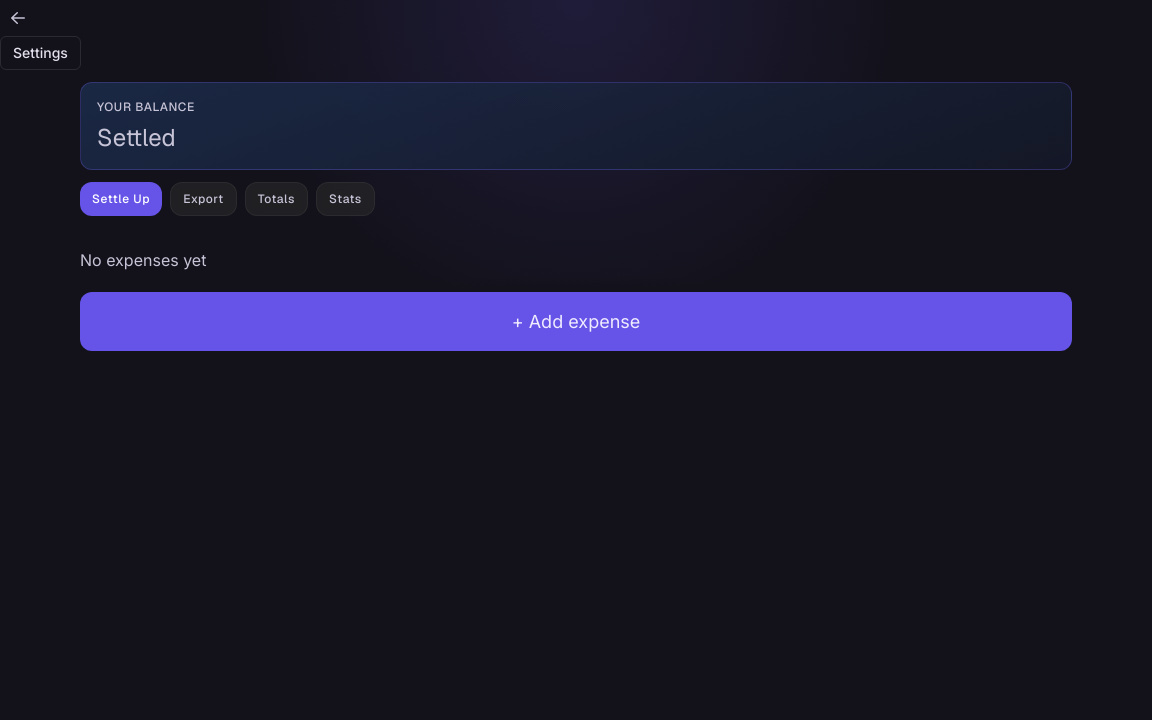
it: GroupDetailView overlay routes › clicking Stats pushes ?overlay=categories and renders the category recap dialog
The width and height of the screenshot is (1152, 720).
Click the button "Stats" at (346, 199), box [316,182,375,216]
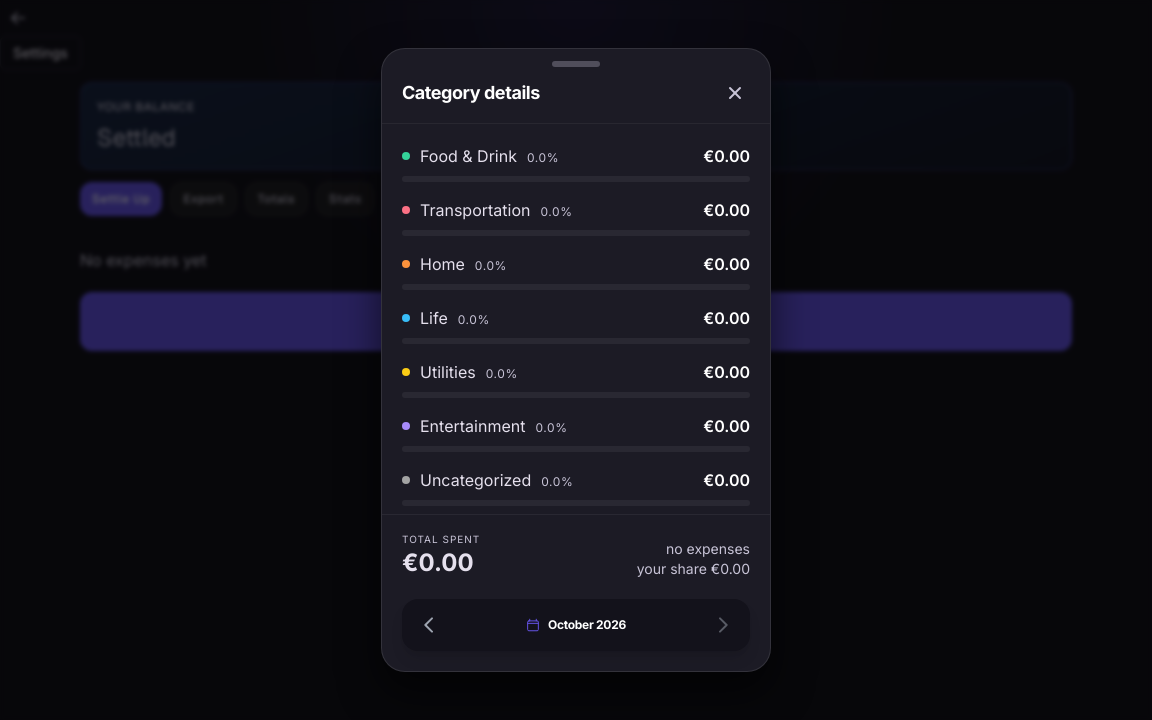
Check: the dialog named "Category details" is shown, box [381,48,771,672]
